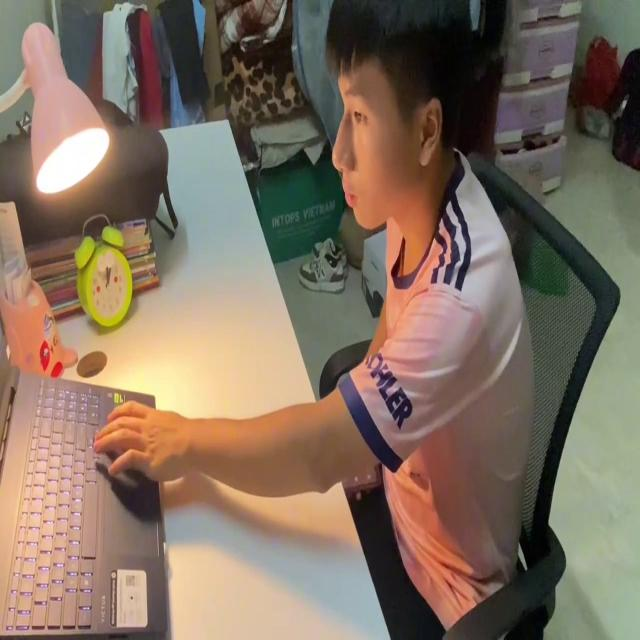laptop: (0, 306, 172, 640)
phone: (345, 464, 378, 491)
student: (93, 0, 537, 627)
